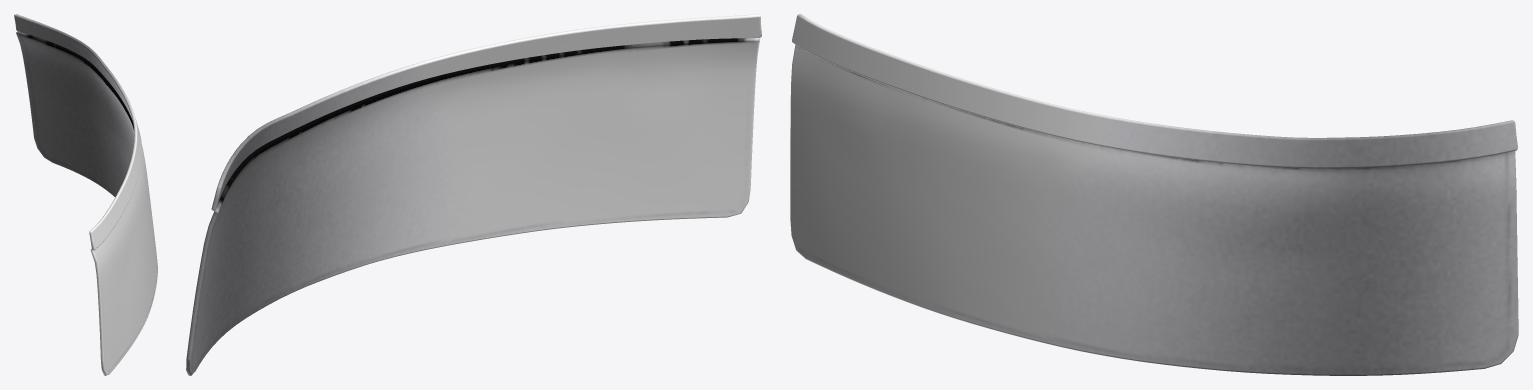
The model's file is xiakoudai-L.FBX.
3 views of the same model, side by side, from view 1: azimuth 30°, elevation 25°; view 2: azimuth 150°, elevation 25°; view 3: azimuth 270°, elevation 25° (orthographic). The views are drawn at different scales.
Parts seen in each view (by area): view 1: default009; view 2: default009; view 3: default009.
Boxes of the visible parts, x1,y1,x2,y2 form: default009: [14, 14, 157, 375]; default009: [186, 14, 761, 375]; default009: [790, 14, 1518, 375].
Bounding box in the file's own units: 6.54 × 4.93 × 13.47.
